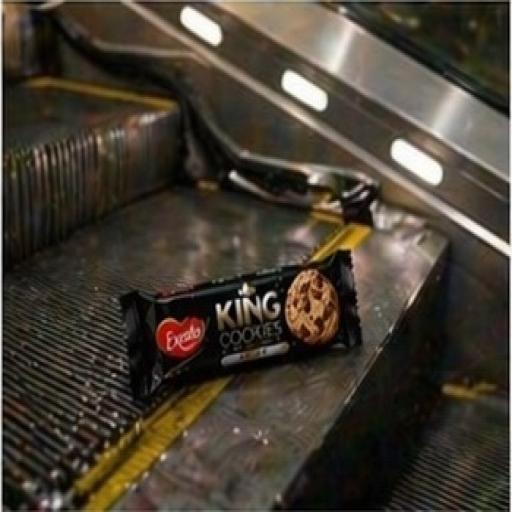king-cooking: (98, 232, 398, 425)
